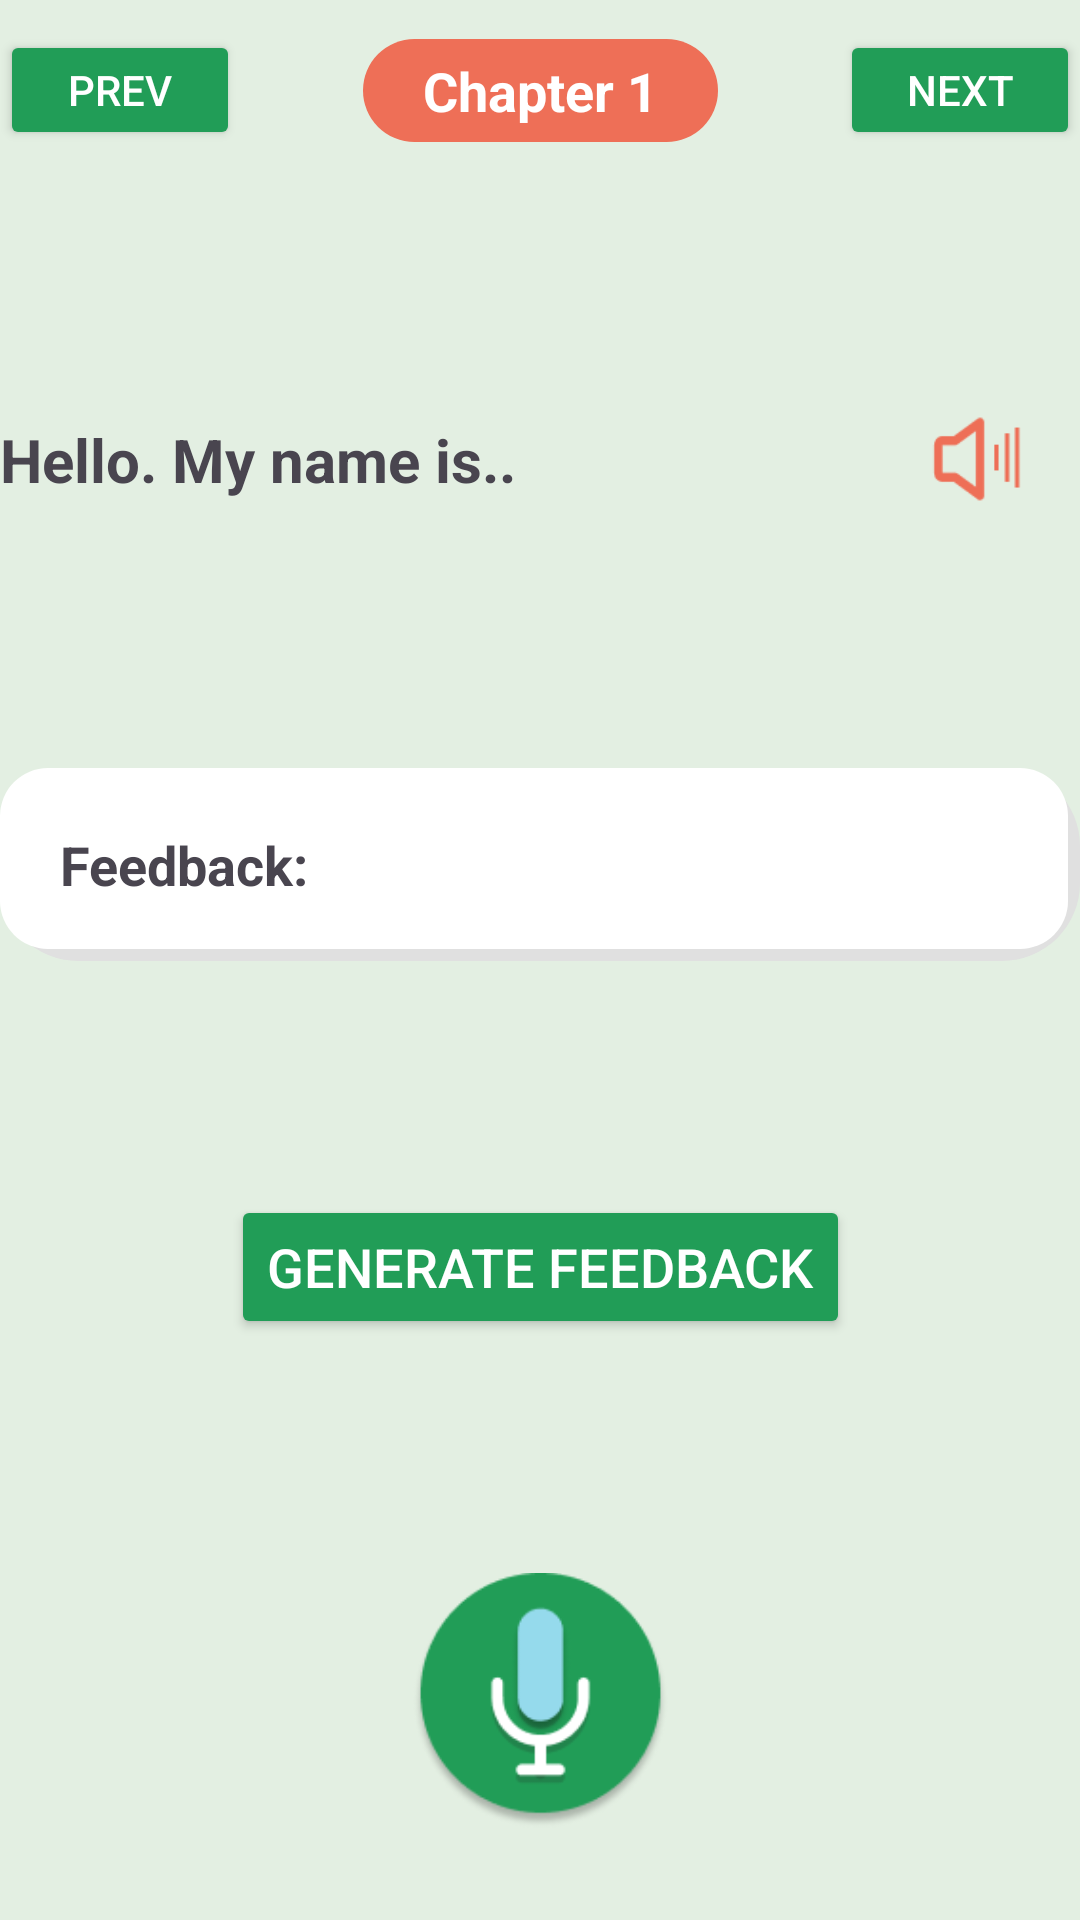

Icons on this 1080px×1920px Android screen, each with its box as (x1, y1, x2, y2):
mic: (420, 1573, 661, 1821)
speaker: (934, 417, 1020, 501)
